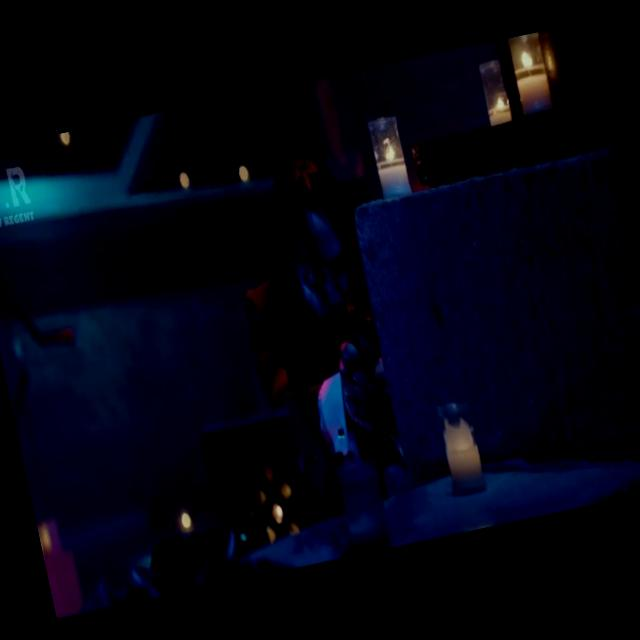handgun: (334, 288, 402, 404)
